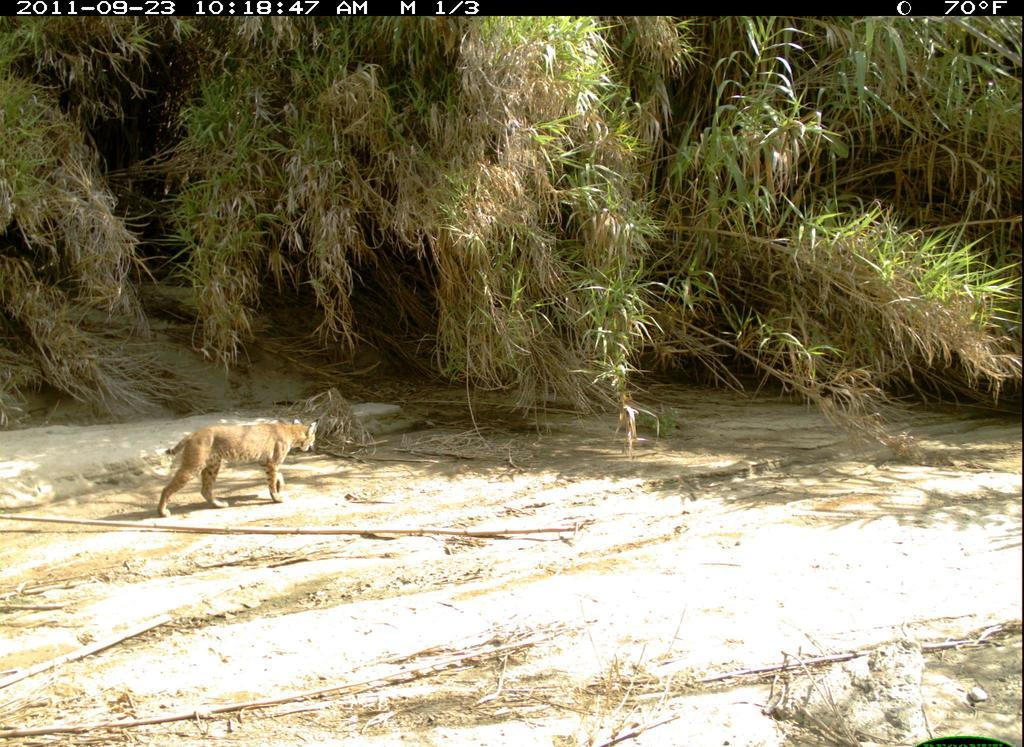bobcat: (146, 414, 332, 527)
